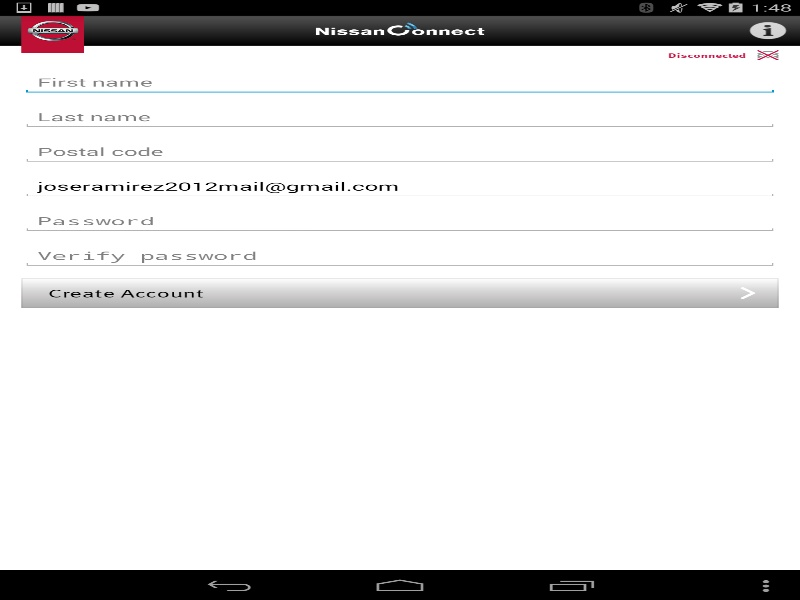Button: (21, 278, 778, 308)
Input: (21, 104, 778, 129), (21, 139, 778, 164), (21, 208, 778, 233), (21, 243, 778, 268), (21, 70, 778, 94), (21, 174, 778, 198)
